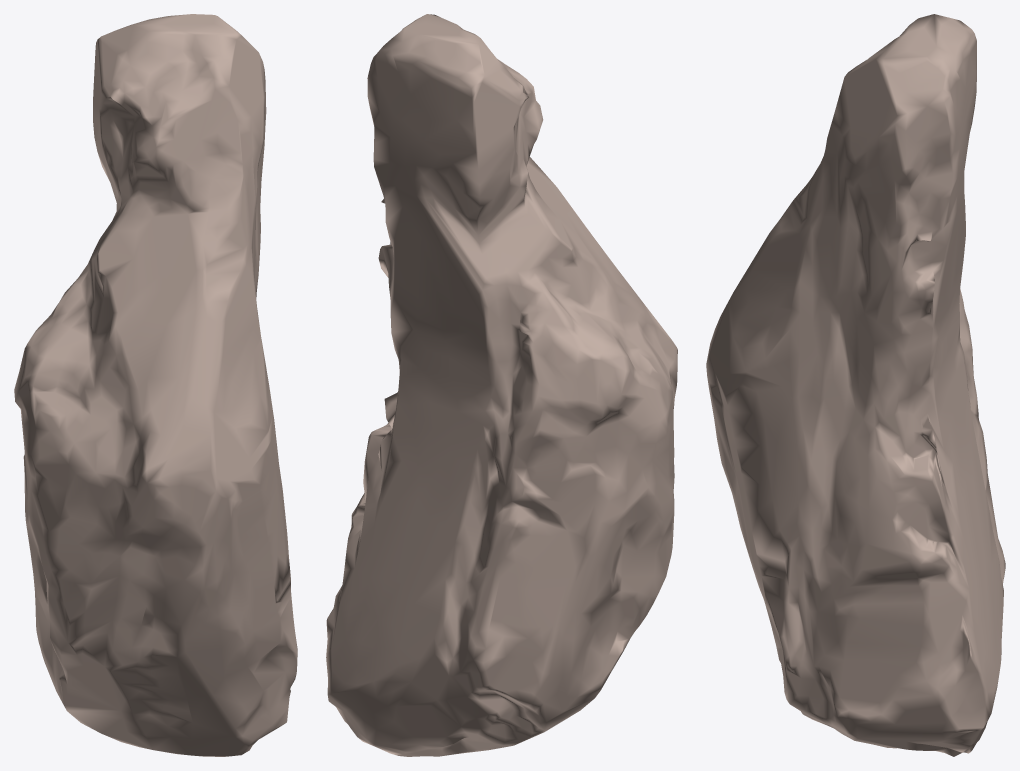
The model's file is rock-2.glb.
The picture shows the model from 3 angles, left to right: view 1: azimuth 30°, elevation 25°; view 2: azimuth 150°, elevation 25°; view 3: azimuth 270°, elevation 25°; orthographic projection. The views are drawn at different scales.
Visible parts, largest first — view 1: rock-2; view 2: rock-2; view 3: rock-2.
Boxes of the visible parts, box(x1,y1,x2,y2) form: rock-2: box(14, 14, 297, 756); rock-2: box(326, 14, 677, 756); rock-2: box(706, 14, 1005, 756).
Bounding box in the file's own units: 0.2247 × 0.55 × 0.2105.
